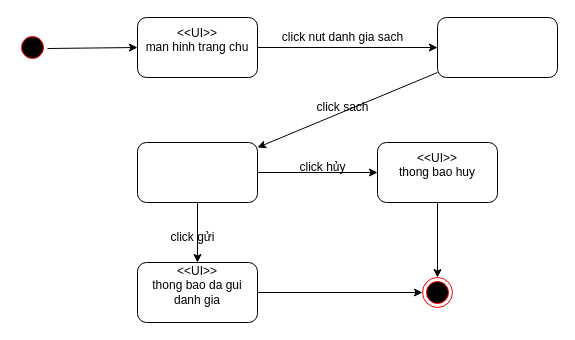
The diagram is 575 pixels wide and 340 high, and some of its shapes have lost their labels. Here are the shapes that lost their labels. From the top down, the centre of each, then its label:
(x=497, y=47): <<UI>> man hinh danh gia sach
(x=197, y=172): <<UI>> form danh gia sach
